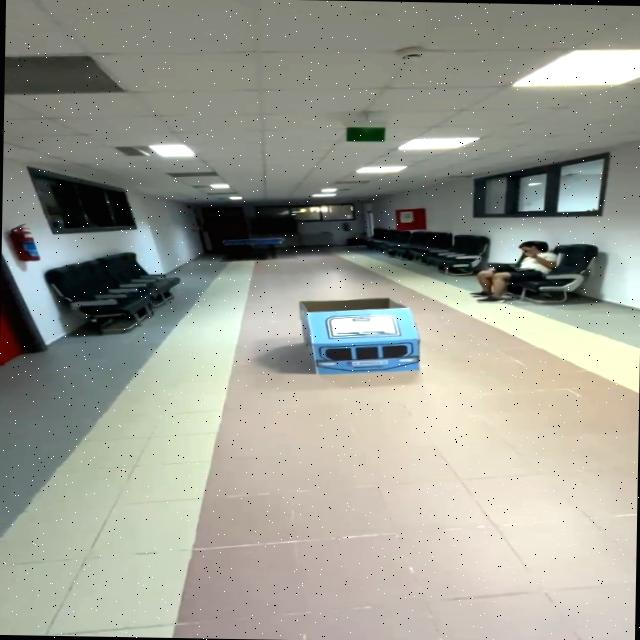blue_car: (276, 283, 444, 390)
